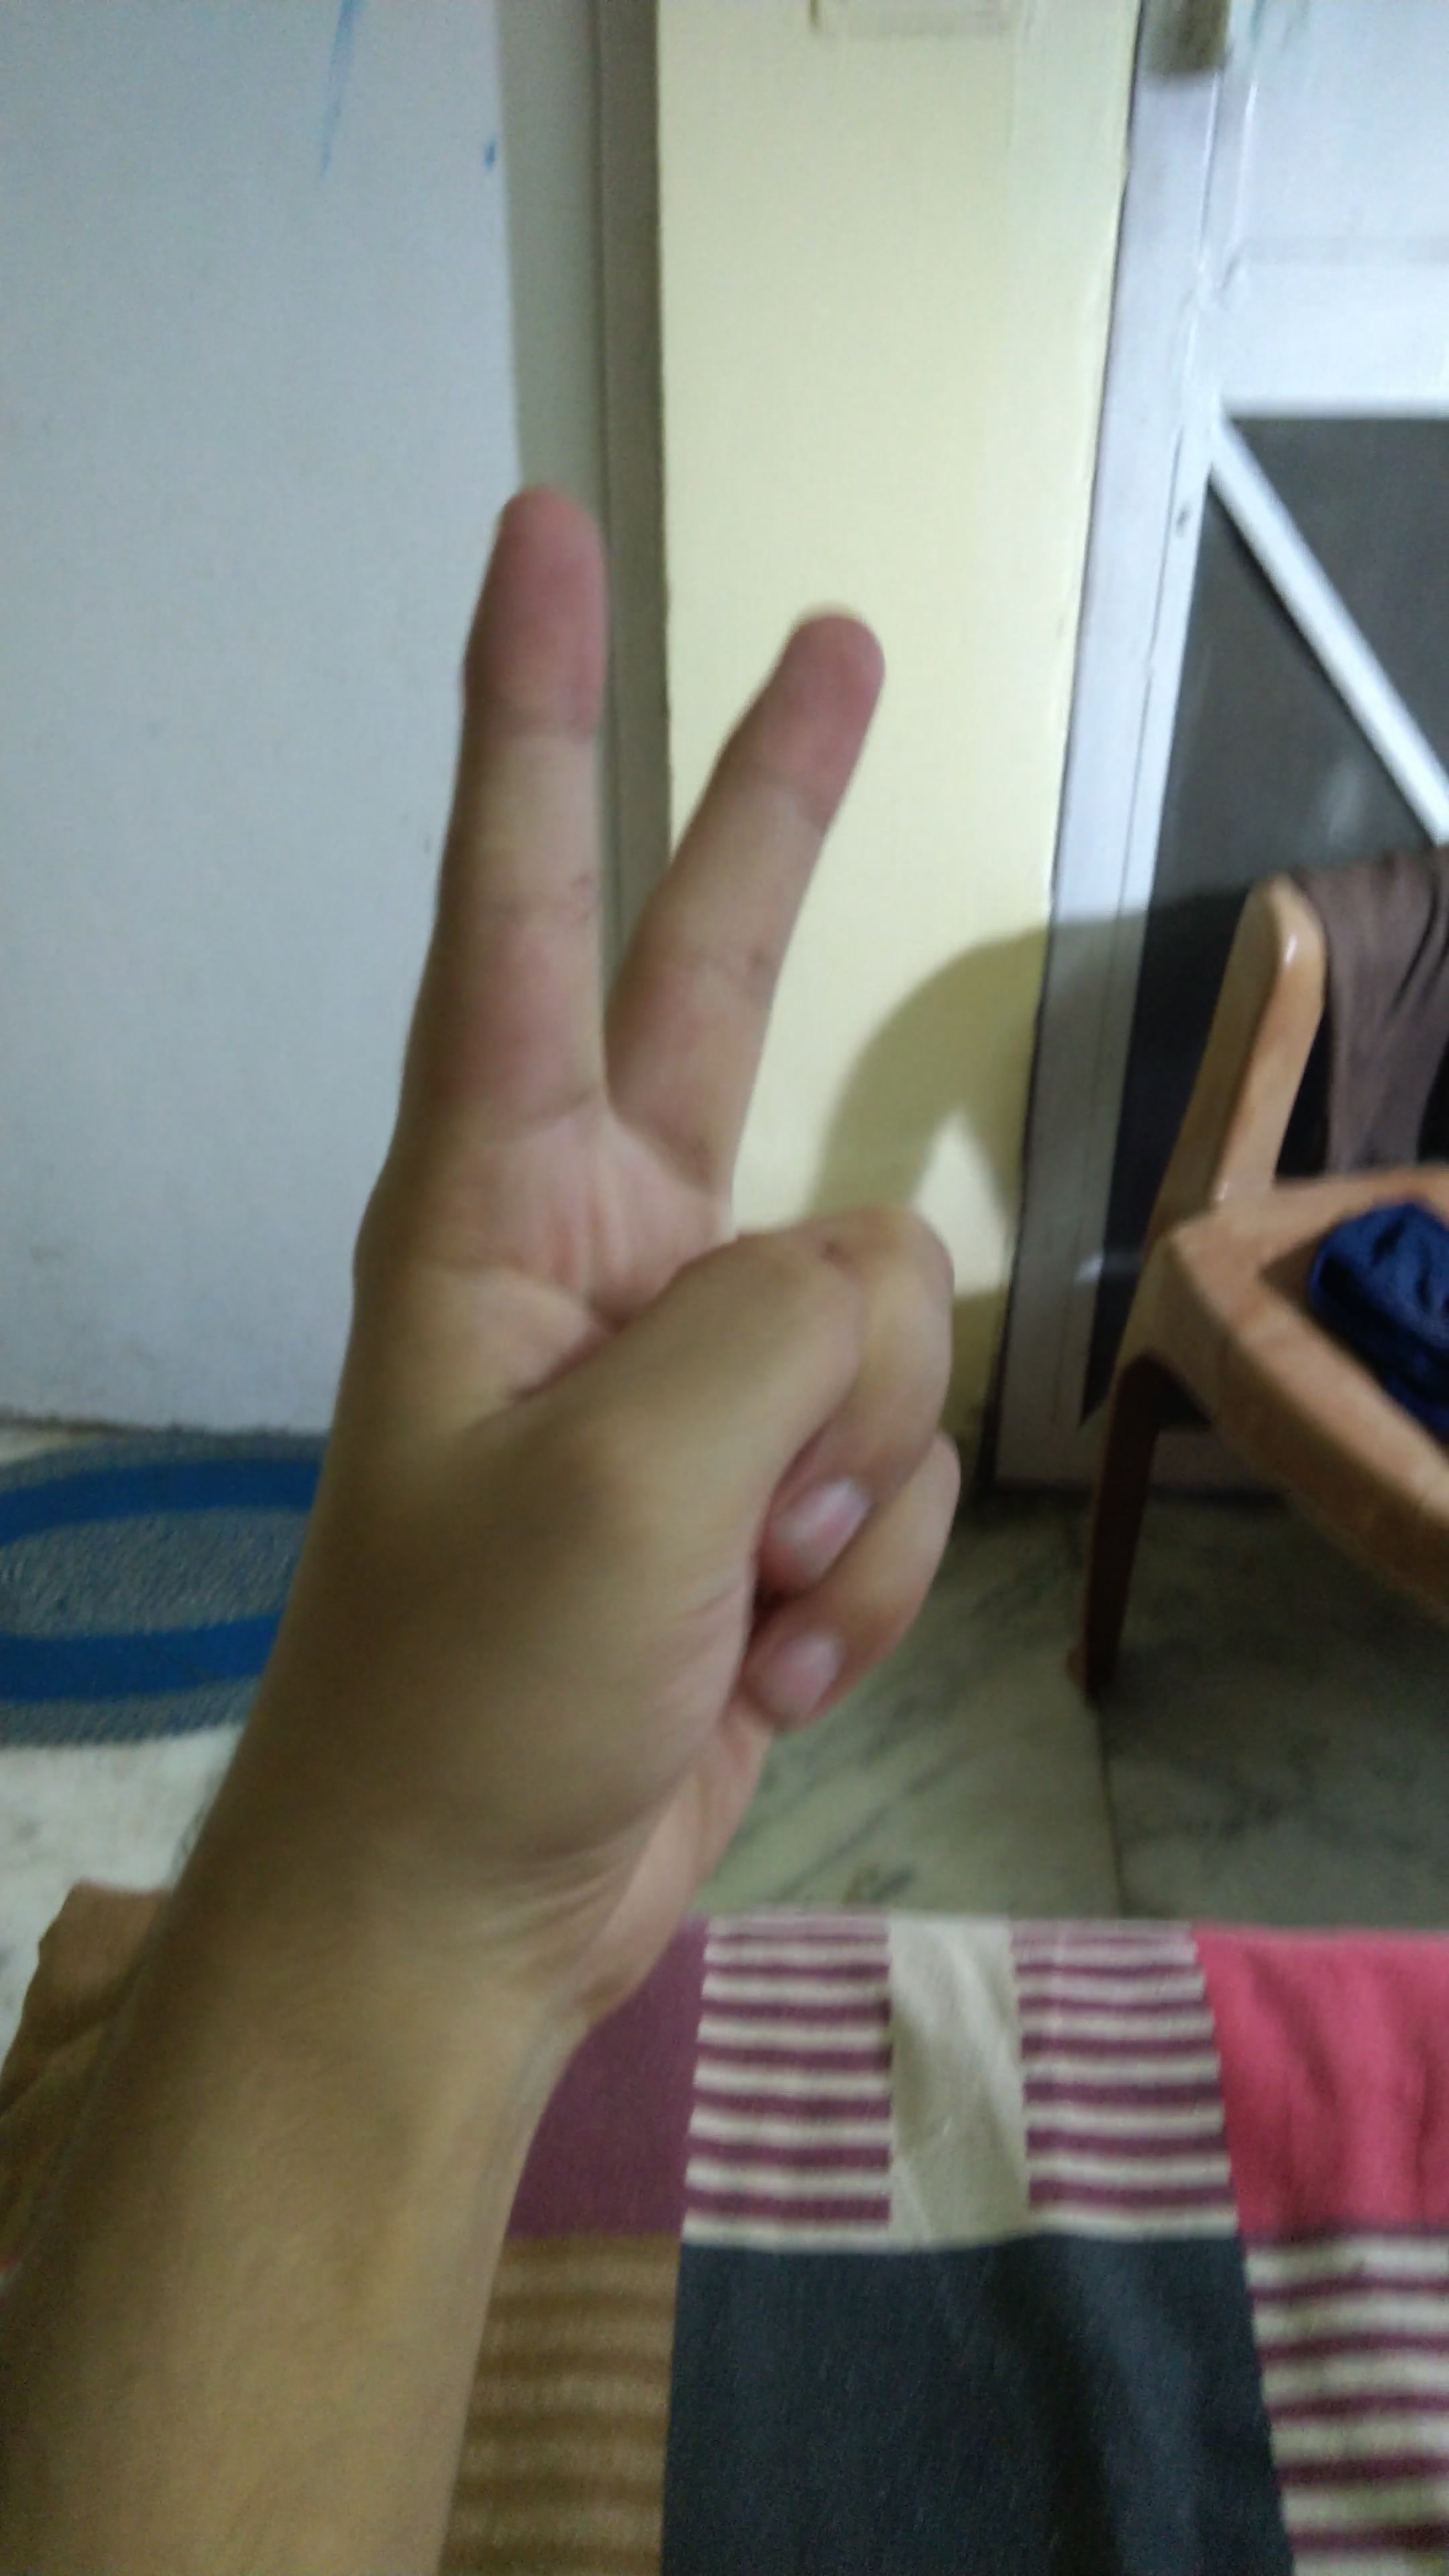hand: (214, 435, 1030, 2070)
